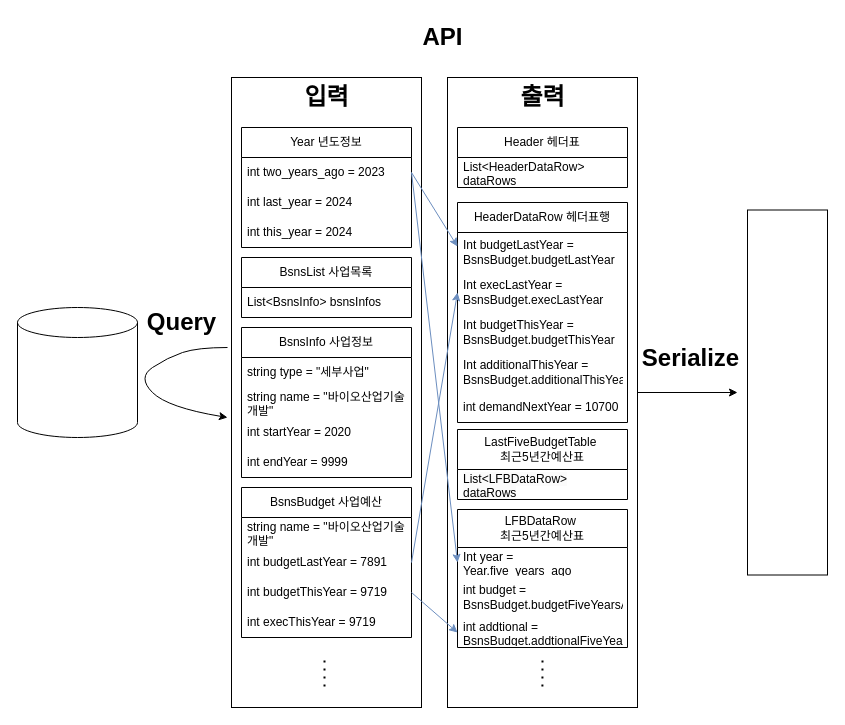
Some shapes in this 845 by 725 pixel diagram are drawn without their labels. The shapes that lost their labels are listed below. From the top down, each one's centre as x and y in pixels, then its label:
At point (77, 372): "PMS".
At point (787, 392): "한글 생성기".
